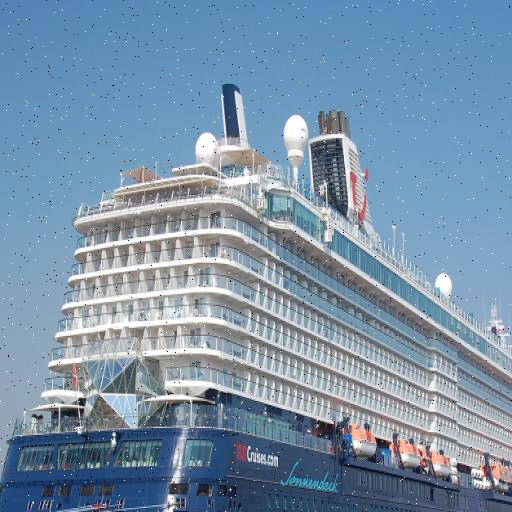cruises: (1, 81, 512, 512)
